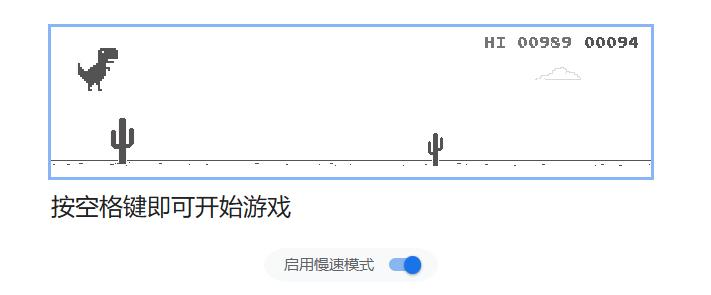cactus: (109, 117, 135, 166), (427, 132, 444, 166)
dino: (76, 47, 117, 92)
